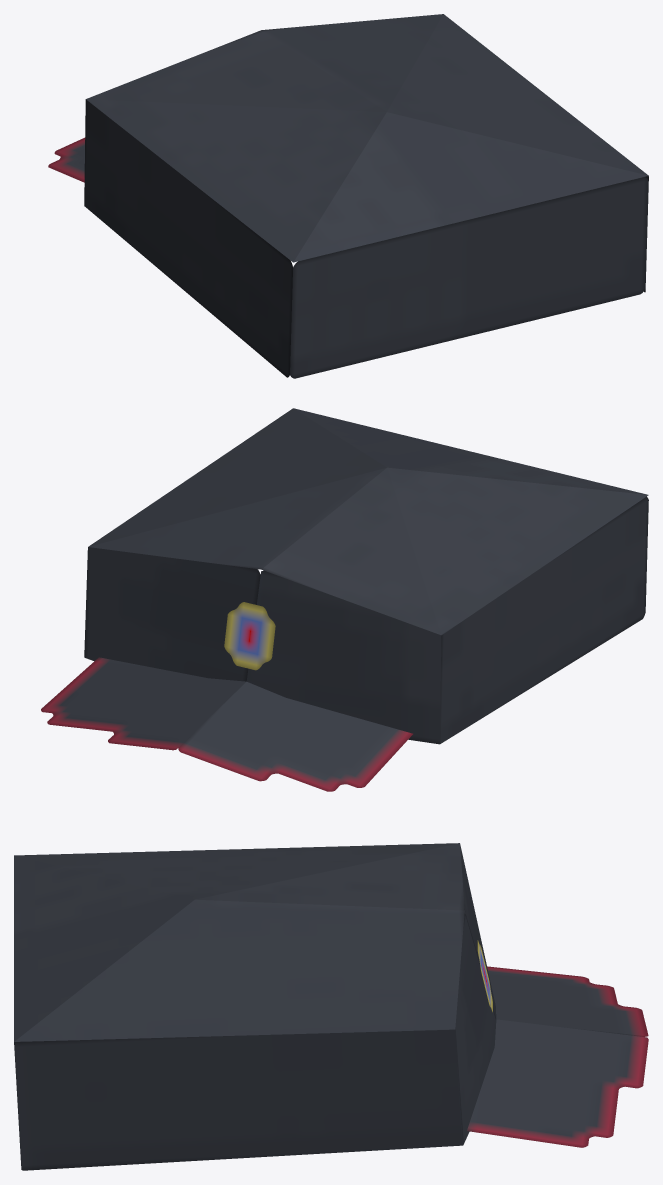
The model's file is r_police_h.obj.
The picture shows the model from 3 angles, top to bottom: view 1: azimuth 30°, elevation 25°; view 2: azimuth 150°, elevation 25°; view 3: azimuth 270°, elevation 25°; orthographic projection. The views are drawn at different scales.
Visible parts, largest first — view 1: mesh; view 2: mesh; view 3: mesh.
Boxes of the visible parts, box(x1,y1,x2,y2) form: mesh: box(48, 14, 648, 378); mesh: box(41, 408, 648, 791); mesh: box(14, 843, 648, 1170).
Size of the model in its own units: 0.5813 by 0.2584 by 0.8362.
